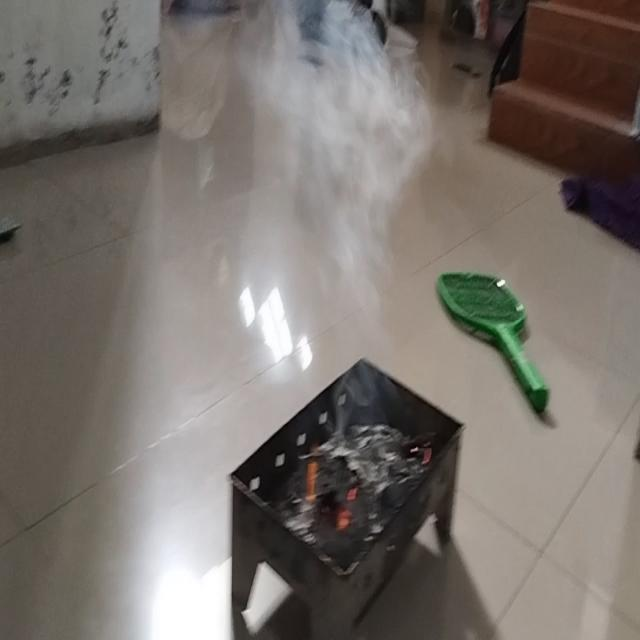fire: (267, 0, 429, 257)
